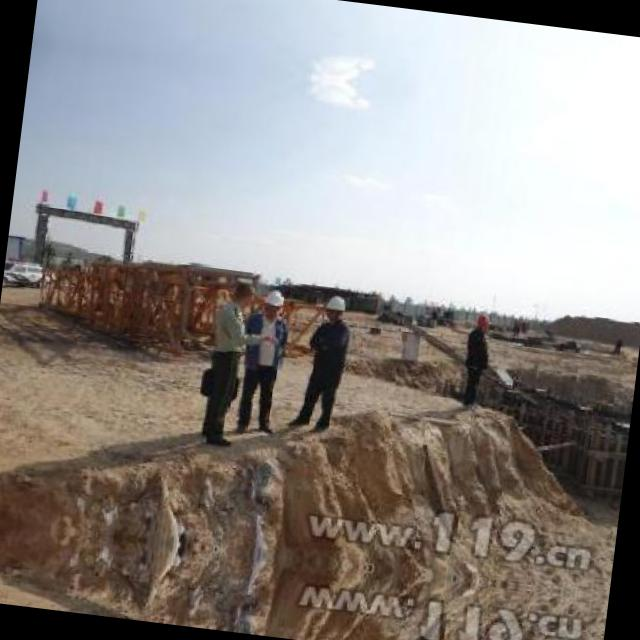helmet: (260, 289, 285, 317), (323, 292, 346, 320), (473, 312, 492, 334)
